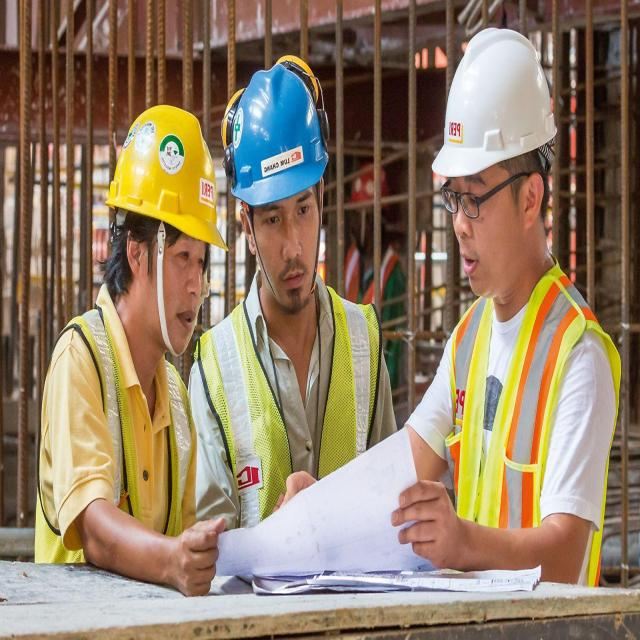Reflective-Jacket: (444, 267, 622, 586), (198, 287, 384, 529), (31, 301, 195, 567)
Safety-Helmet: (430, 23, 558, 185), (104, 98, 228, 249), (225, 53, 331, 205), (343, 156, 395, 218)
